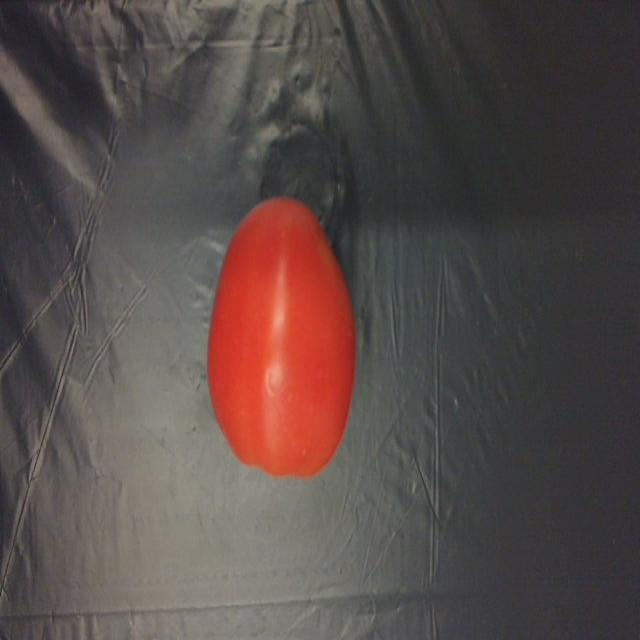kirmizi: (207, 194, 362, 482)
